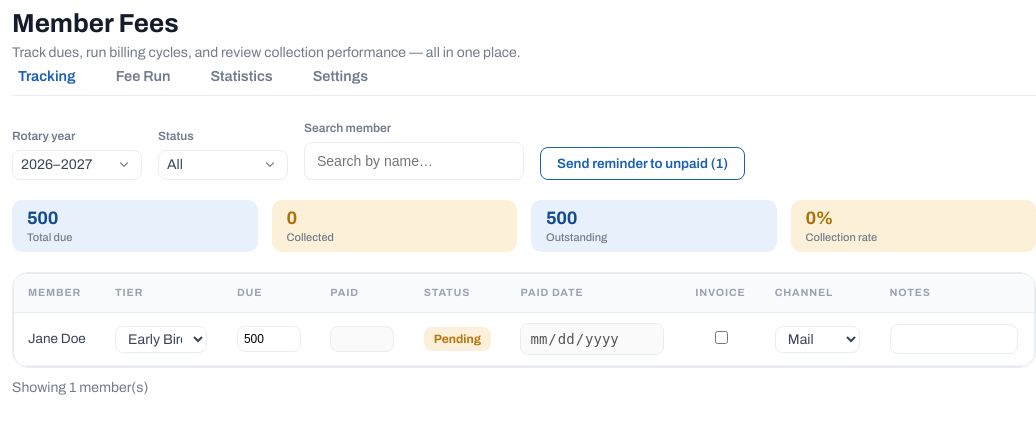
it: MemberFees › Tracking tab › shows an error when marking paid fails
Click the button with aria-label "mark jane doe paid". click: click(457, 339)
box: [424,327,491,351]
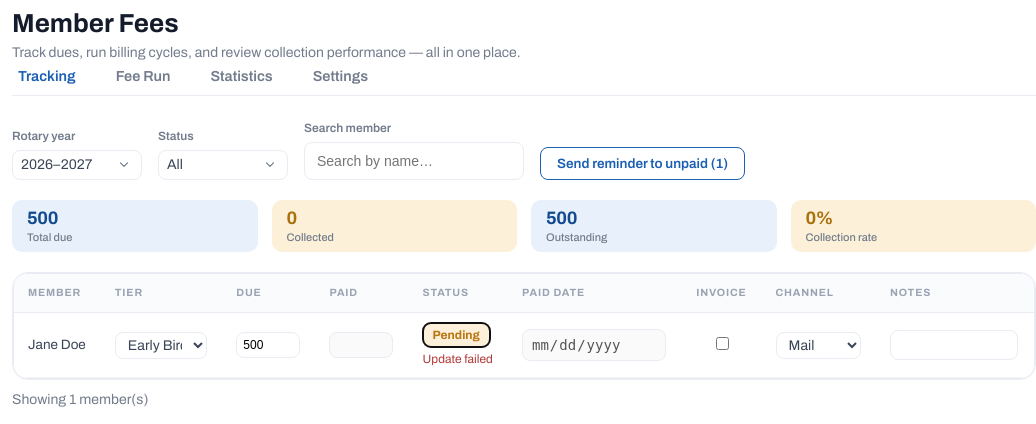
Check: the message reads "Update failed", box [423,352,493,366]
